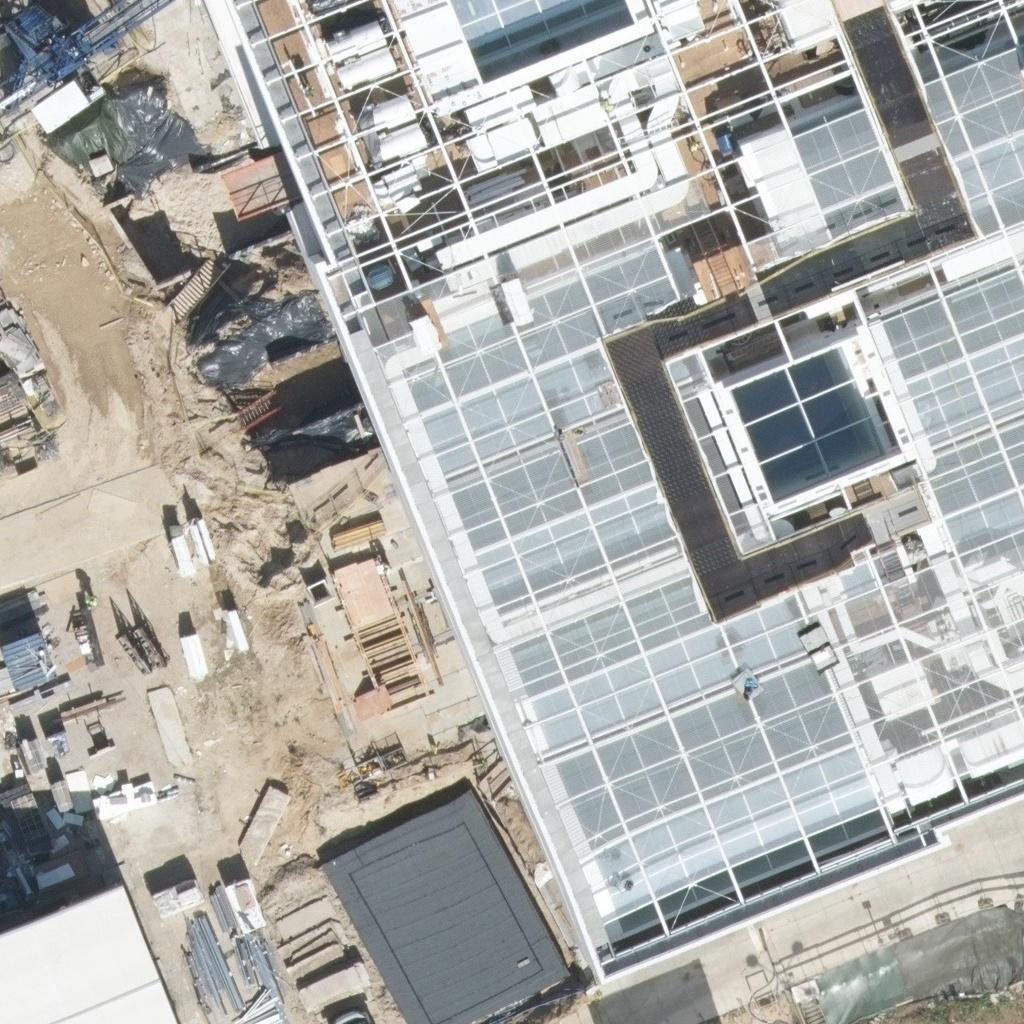zuraw_wiezowy: (0, 0, 177, 112)
